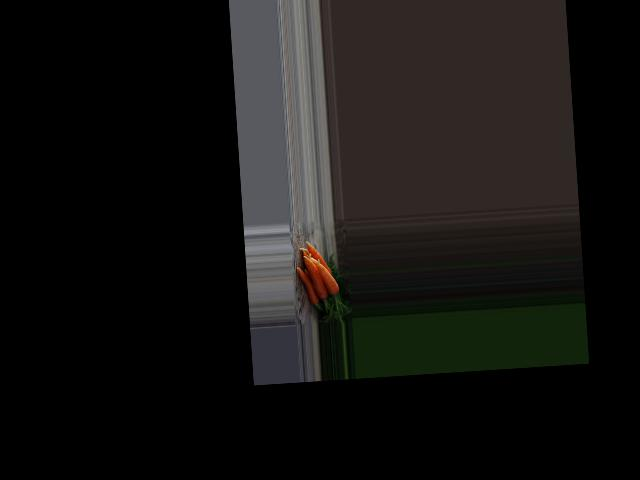carrot: (299, 263, 318, 310)
